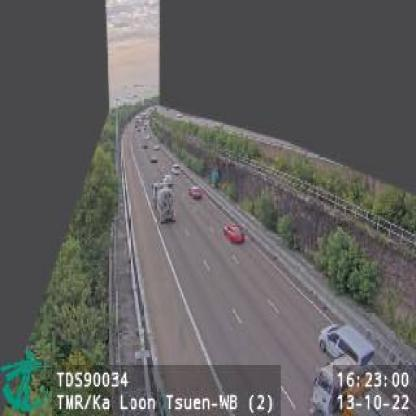Car: (316, 322, 374, 365), (223, 223, 246, 245), (190, 183, 204, 200), (173, 162, 183, 175)
Truck: (152, 179, 178, 225)
